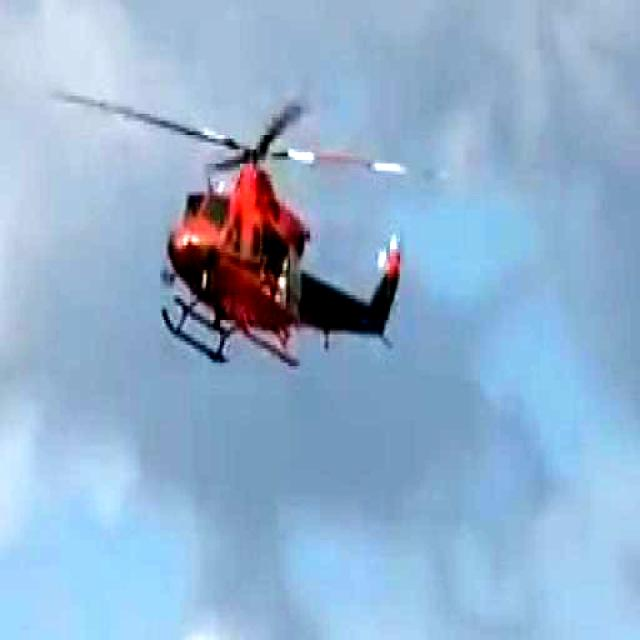drone: (61, 74, 411, 375)
